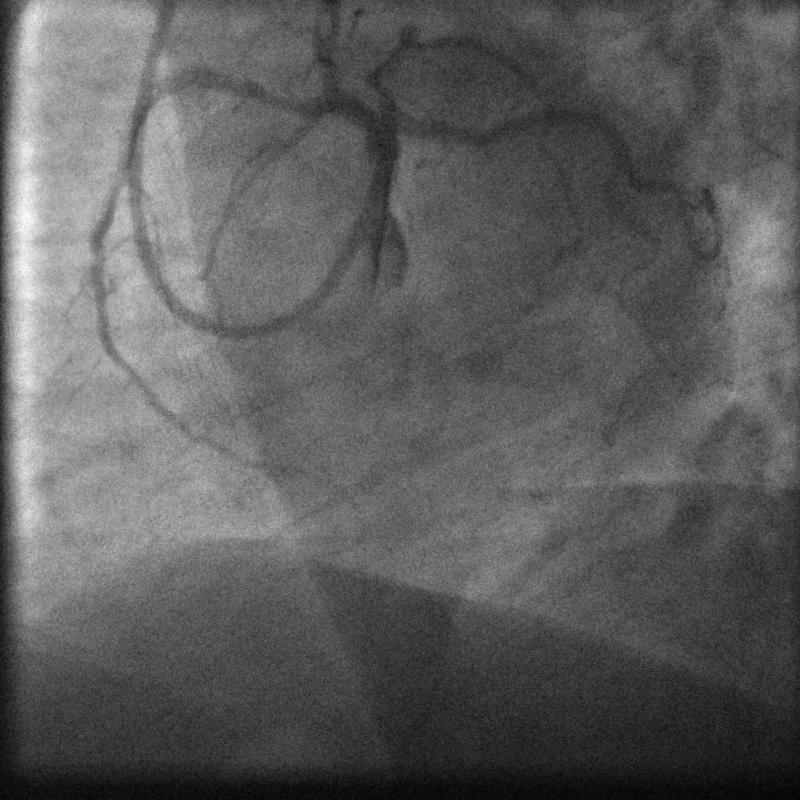Stenosis: (255, 74, 318, 117)
